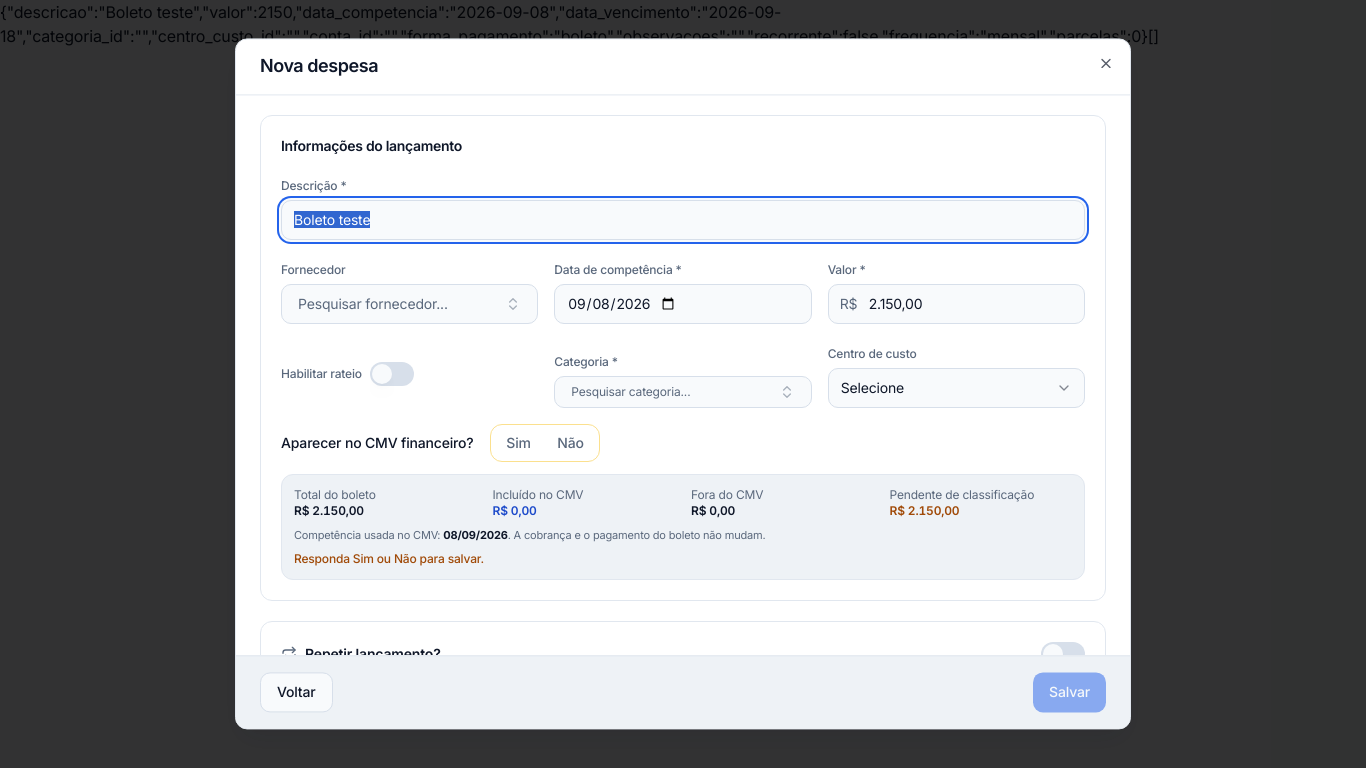
it: Contas a Pagar — "Aparecer no CMV financeiro?" › boleto novo de uma categoria exige Sim ou Não e mostra competência e valor que entra
This screenshot has width=1366, height=768.
Expected: the button "Salvar" is disabled, left=1033, top=673, right=1106, bottom=713
Expected: the text "08/09/2026" is shown, left=443, top=528, right=508, bottom=542
Click the radio button labelled "Sim": (518, 443) left=492, top=427, right=544, bottom=459
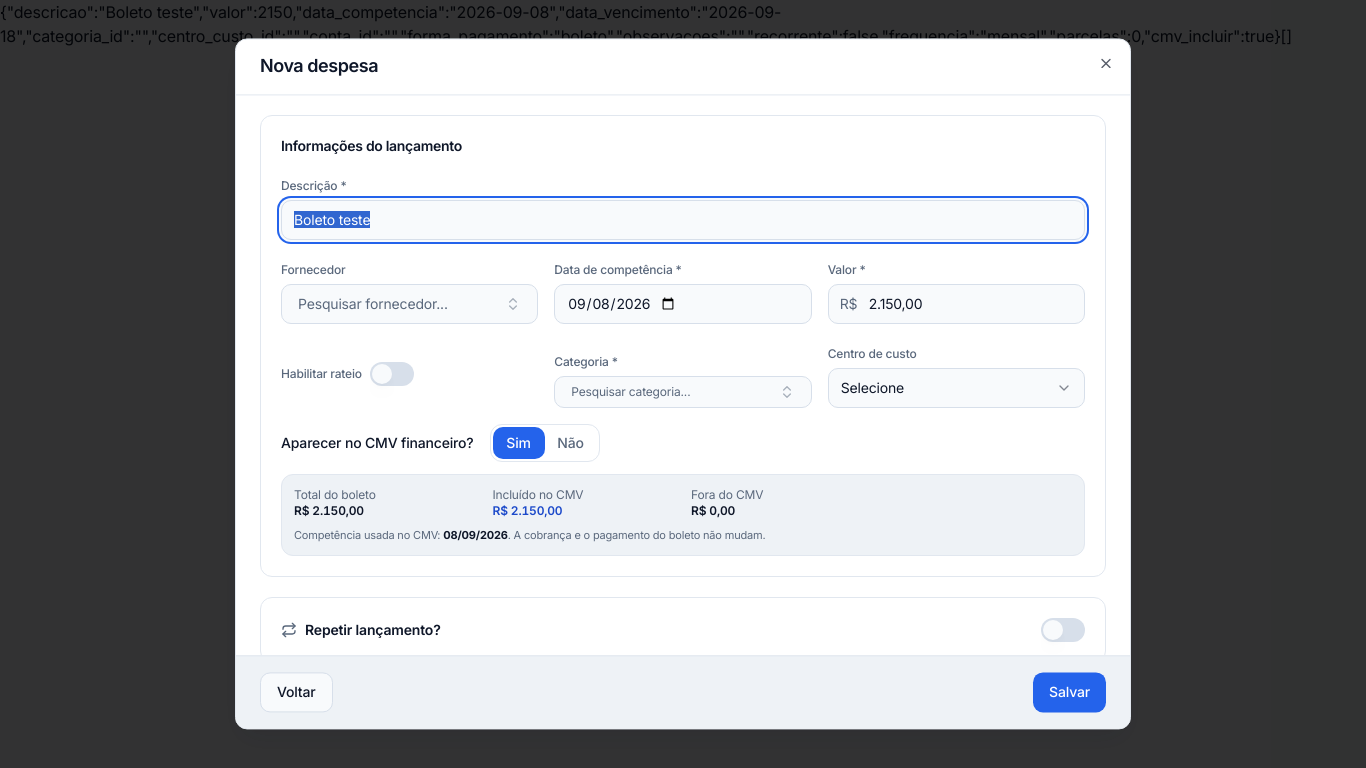
Expected: the text "R$ 2.150,00" below "Total" is shown, left=294, top=503, right=364, bottom=518
Now the button "Salvar" is enabled, box left=1033, top=673, right=1106, bottom=713
Click the radio button labelled "Não": (570, 443) left=544, top=427, right=596, bottom=459
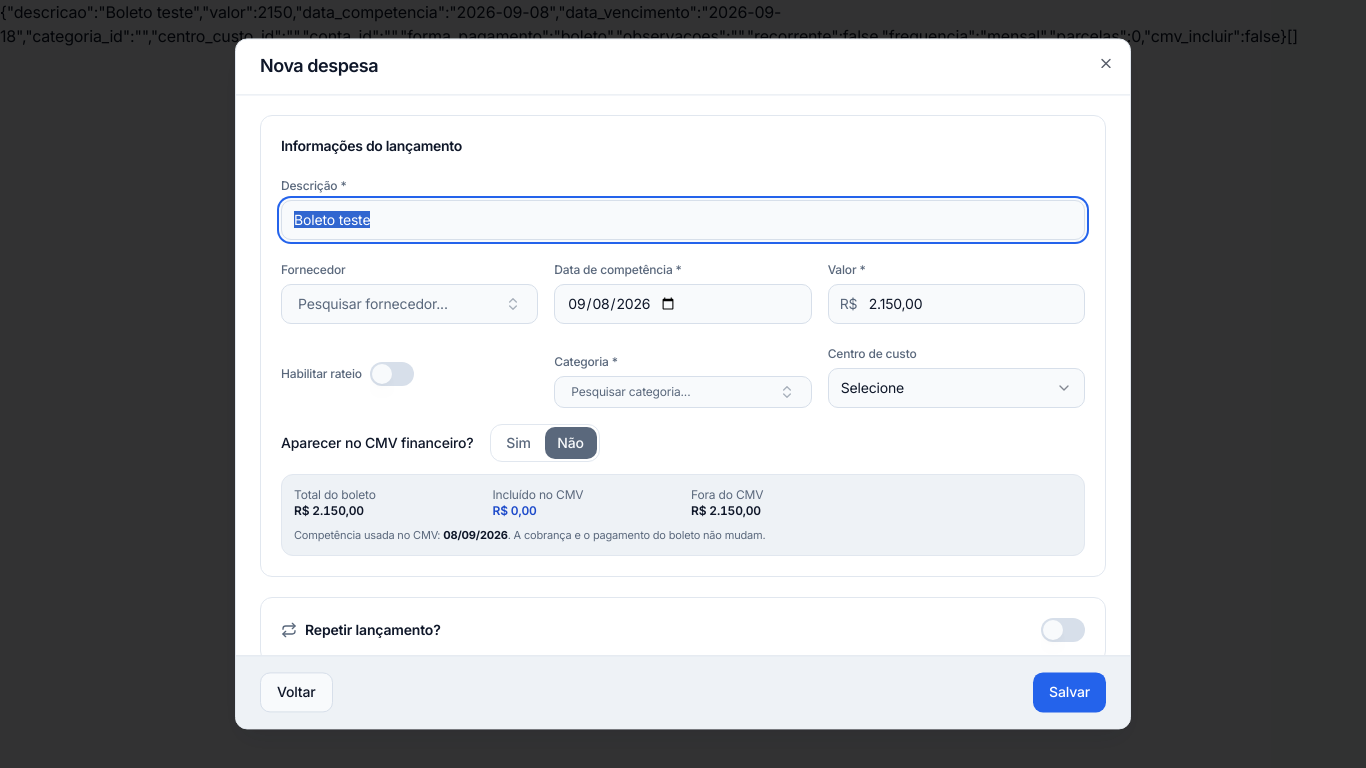
Expected: the text "R$ 2.150,00" below "Total" is shown, left=294, top=503, right=364, bottom=518
Now the text "R$ 0,00" is shown, box left=492, top=503, right=537, bottom=518
